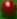brown: (0, 0, 17, 19)
